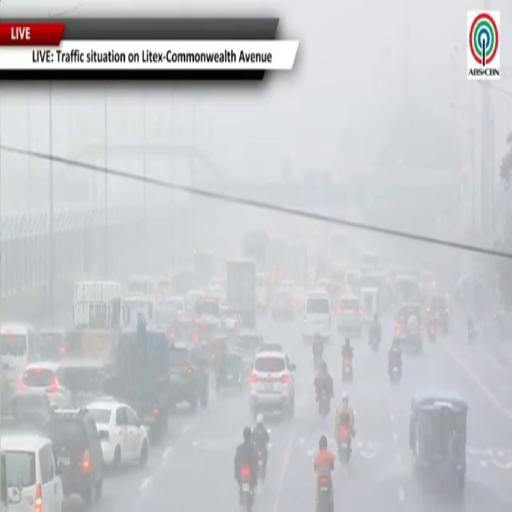car: (103, 328, 170, 438), (46, 409, 103, 505), (2, 435, 64, 511), (87, 397, 149, 467), (250, 350, 295, 418), (169, 345, 209, 410), (57, 359, 106, 407), (20, 362, 71, 408), (0, 325, 39, 385), (0, 390, 53, 433), (395, 303, 423, 354), (302, 291, 330, 341), (234, 330, 263, 376), (39, 328, 74, 361), (337, 295, 363, 337), (155, 297, 185, 326), (427, 294, 449, 333), (394, 276, 422, 305), (271, 288, 295, 321), (170, 317, 199, 344), (195, 295, 221, 325), (255, 272, 268, 312), (222, 308, 242, 333), (185, 290, 204, 312), (258, 343, 284, 353)
motorcycle: (240, 467, 253, 511), (338, 426, 351, 465), (318, 476, 332, 511), (319, 389, 330, 418), (342, 356, 353, 382), (389, 361, 401, 383), (369, 328, 380, 351), (258, 450, 265, 484), (427, 320, 437, 342), (369, 333, 380, 351), (314, 354, 323, 371), (468, 325, 476, 343)
truck: (71, 281, 128, 363), (225, 259, 256, 329), (242, 230, 268, 270), (285, 243, 307, 286), (194, 251, 214, 286)
